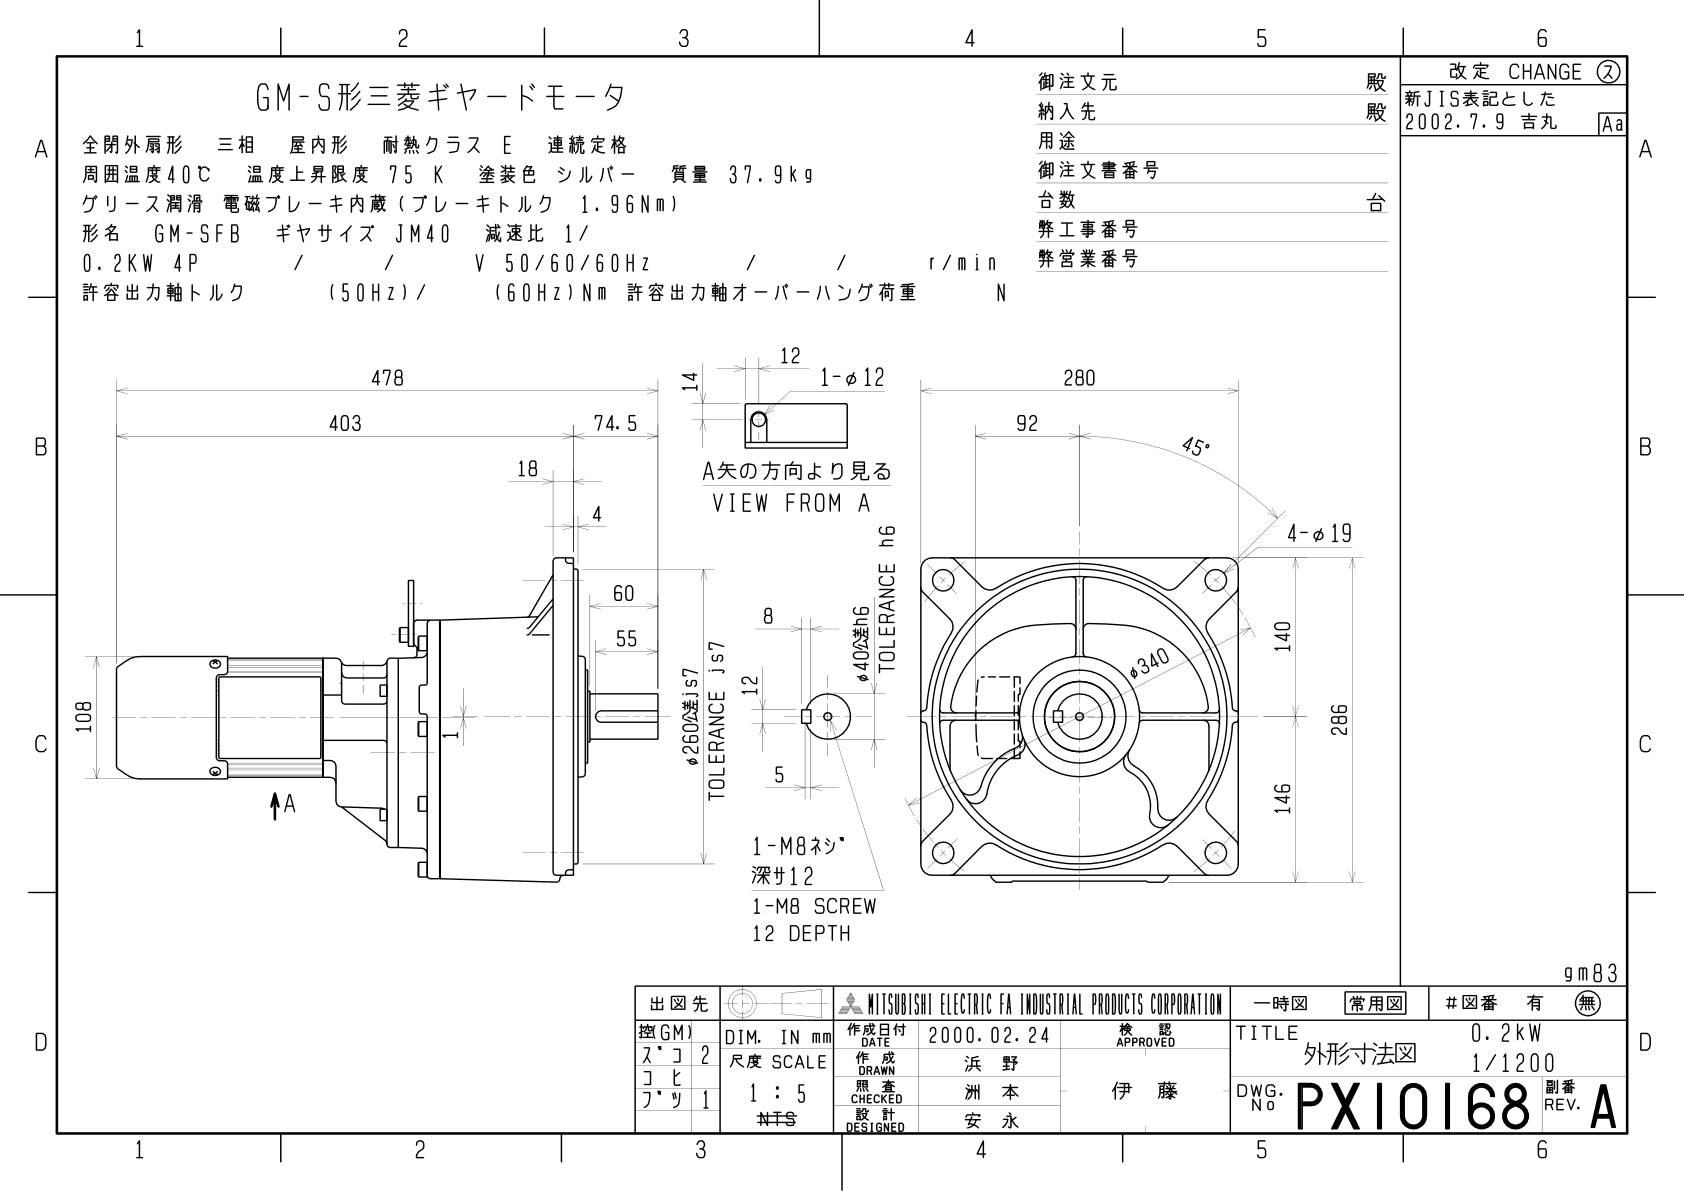GM_S_屋内＿三相_フランジ: (58, 320, 1395, 963)
